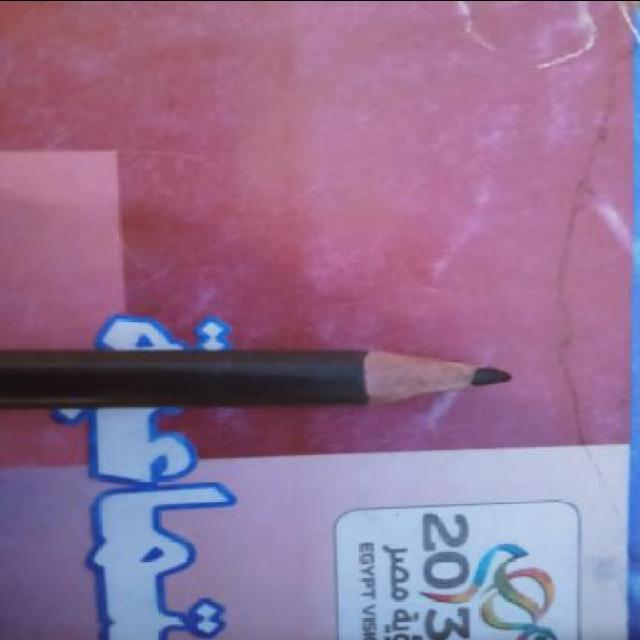Pencil: (338, 341, 518, 416)
